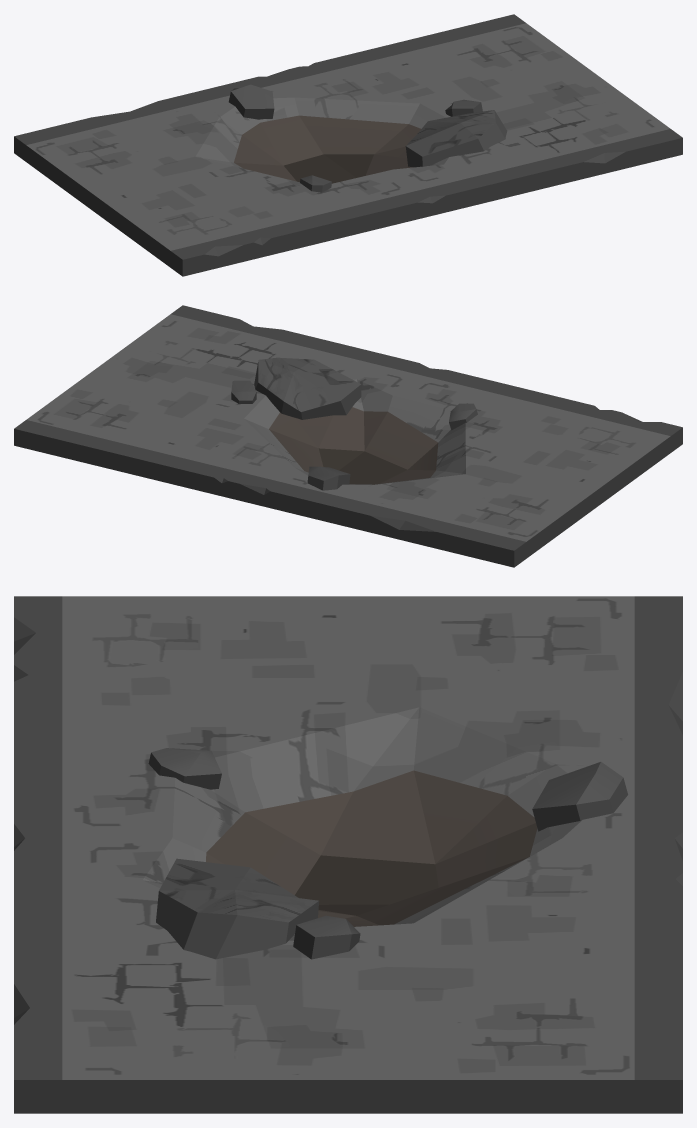
The model's file is SM_Env_City_Footpath_Damaged_01.fbx.
The picture shows the model from 3 angles, top to bottom: view 1: azimuth 30°, elevation 25°; view 2: azimuth 150°, elevation 25°; view 3: azimuth 270°, elevation 25°; orthographic projection. The views are drawn at different scales.
Parts seen in each view (by area): view 1: SM_Env_City_Footpath_Damaged_01; view 2: SM_Env_City_Footpath_Damaged_01; view 3: SM_Env_City_Footpath_Damaged_01.
Part boxes in pixels (<box>): SM_Env_City_Footpath_Damaged_01: <box>14,14,682,276</box>; SM_Env_City_Footpath_Damaged_01: <box>14,305,682,567</box>; SM_Env_City_Footpath_Damaged_01: <box>14,596,682,1113</box>.
Size of the model in its own units: 5 by 0.5054 by 2.92.
